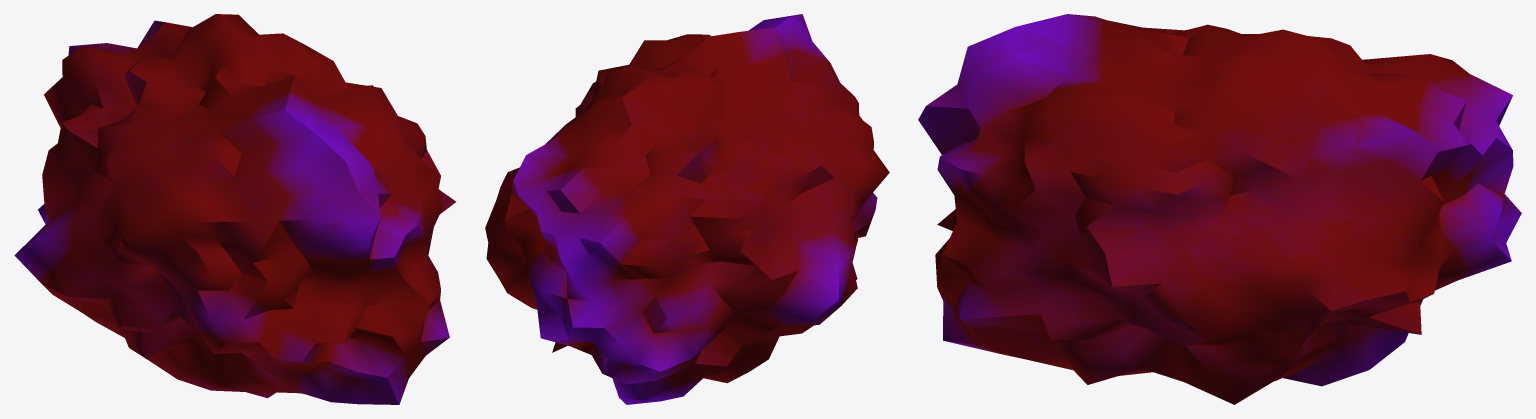
The model's file is asteroid_1.fbx.
3 views of the same model, side by side, from view 1: azimuth 30°, elevation 25°; view 2: azimuth 150°, elevation 25°; view 3: azimuth 270°, elevation 25° (orthographic). The views are drawn at different scales.
Parts seen in each view (by area): view 1: asteroid_1; view 2: asteroid_1; view 3: asteroid_1.
Boxes of the visible parts, box(x1,y1,x2,y2) form: asteroid_1: box(14, 14, 456, 404); asteroid_1: box(485, 14, 889, 404); asteroid_1: box(918, 14, 1521, 404).
Size of the model in its own units: 2.13 by 1.79 by 2.71.
